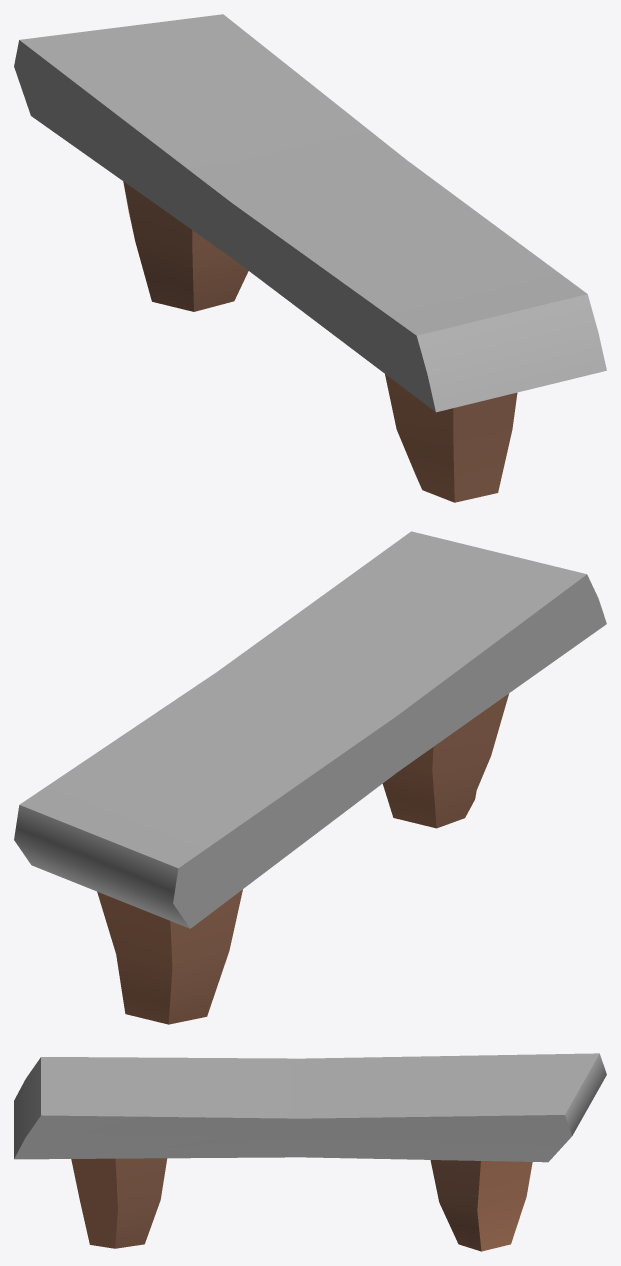
The model's file is WoodenBench.fbx.
The picture shows the model from 3 angles, top to bottom: view 1: azimuth 30°, elevation 25°; view 2: azimuth 150°, elevation 25°; view 3: azimuth 270°, elevation 25°; orthographic projection. The views are drawn at different scales.
Visible parts, largest first — view 1: WoodenBench; view 2: WoodenBench; view 3: WoodenBench.
Part boxes in pixels (x1,y1,x2,y2): WoodenBench: (14,14,606,502); WoodenBench: (14,531,606,1024); WoodenBench: (14,1053,606,1251).
Bounding box in the file's own units: 1.32 × 1.52 × 5.38.
